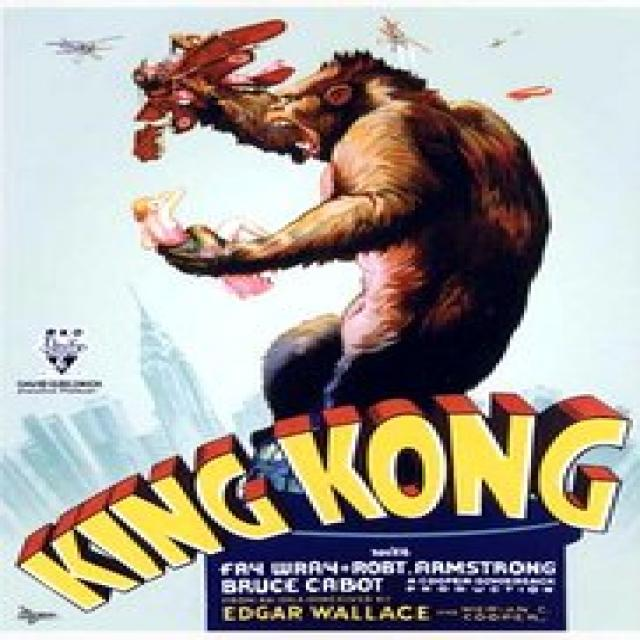movie-judul: (10, 394, 622, 631)
picture: (9, 4, 632, 405)
